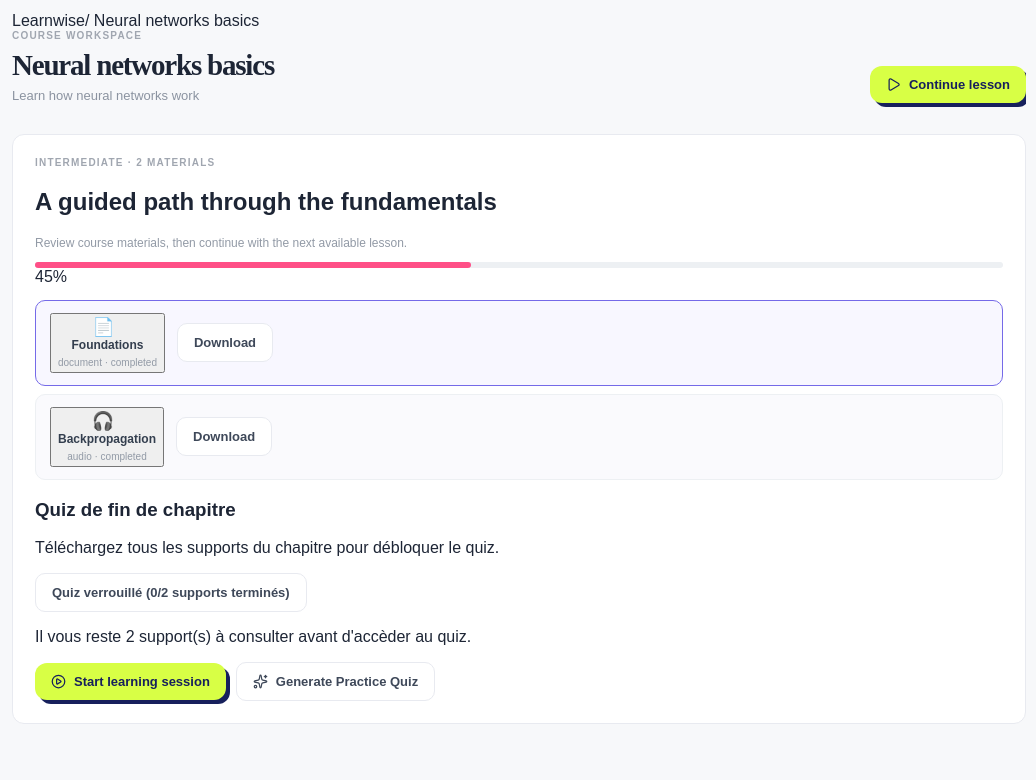
Test: CourseDetailPage › shows quiz generation error
Click the button "Generate Practice Quiz" at (335, 682), box [236,662,435,701]
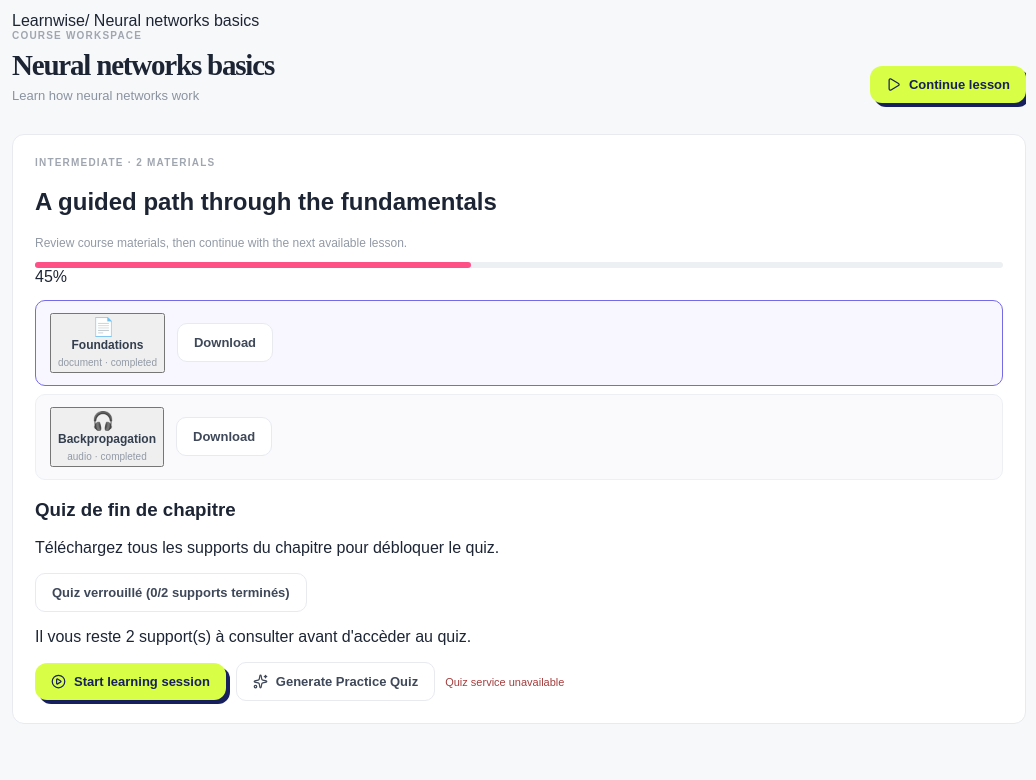
Now the text "Quiz service unavailable" is shown, box [445,676,564,688]
